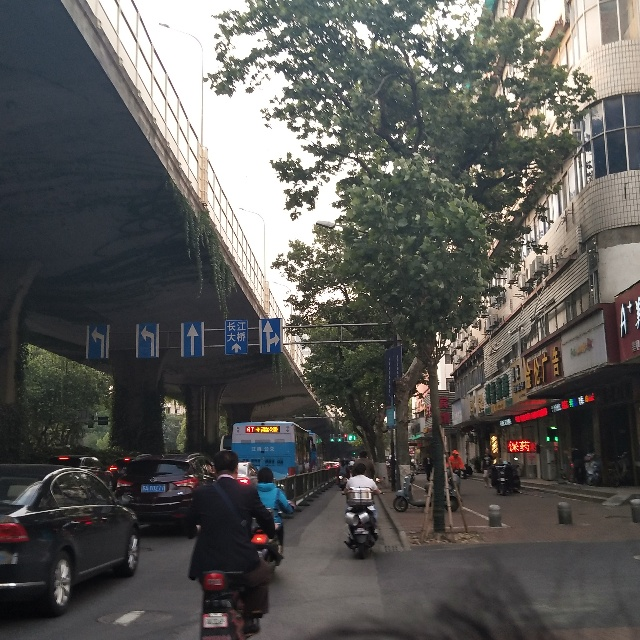left: (135, 323, 159, 359), (86, 324, 109, 359)
straight: (181, 322, 203, 356)
